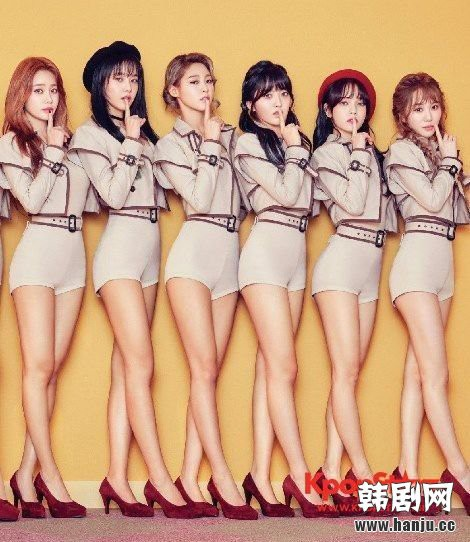people: (81, 43, 180, 509), (5, 57, 103, 520), (236, 61, 330, 517), (161, 54, 248, 514), (386, 74, 469, 492), (312, 66, 378, 468)
